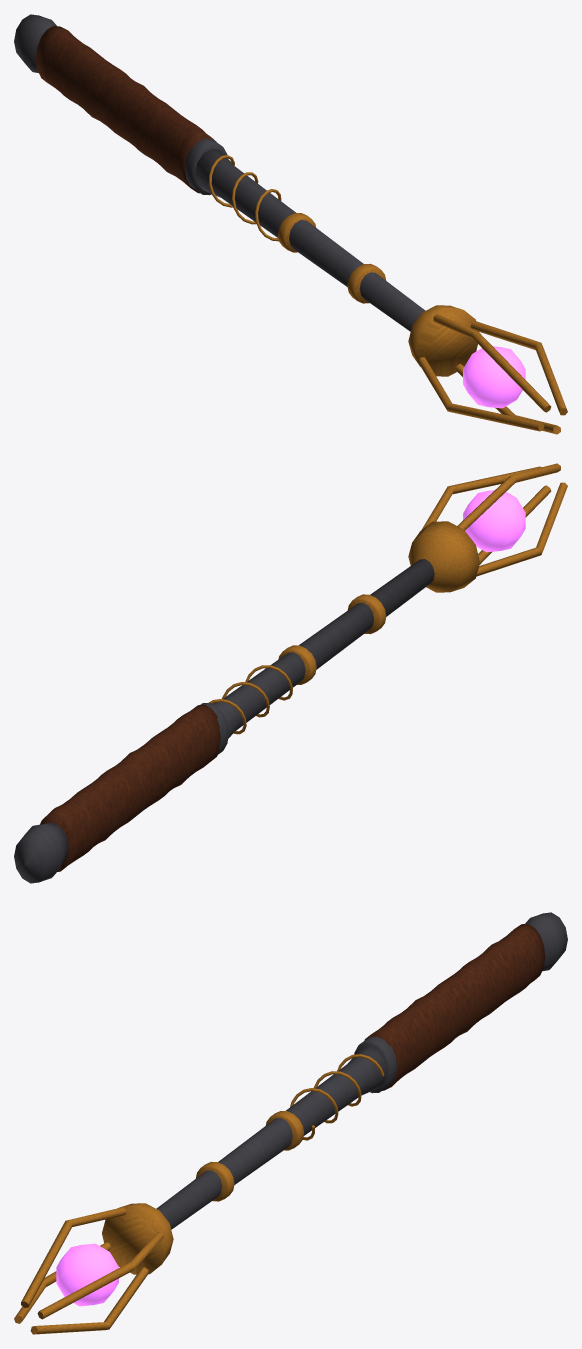
Rendered from weapon_omen_wand.glb.
3 views of the same model, one above another, from view 1: azimuth 30°, elevation 25°; view 2: azimuth 150°, elevation 25°; view 3: azimuth 330°, elevation 25° (orthographic).
Visible parts, largest first — view 1: omen_wand; view 2: omen_wand; view 3: omen_wand.
Part boxes in pixels (box(x1,y1,x2,y2)): omen_wand: box(14, 14, 567, 434); omen_wand: box(14, 463, 567, 883); omen_wand: box(14, 912, 567, 1334).
Bounding box in the file's own units: 0.0482 × 0.0482 × 0.4556.
Materials: 4 (3 with a texture image).
